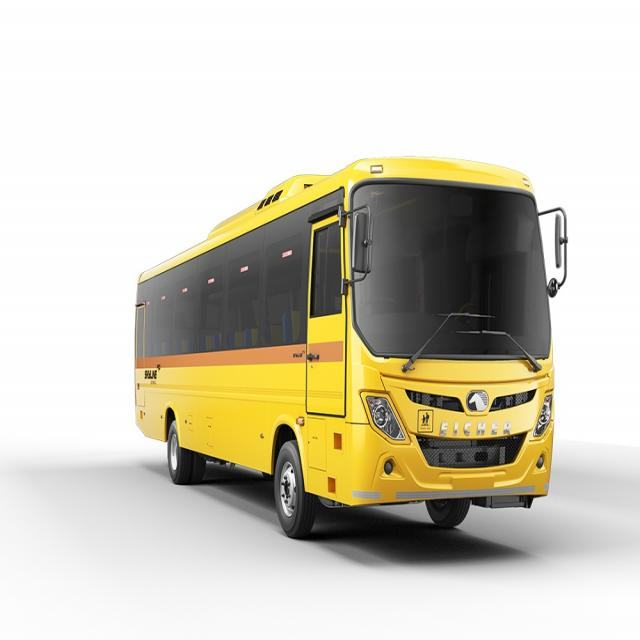bus: (128, 153, 569, 556)
